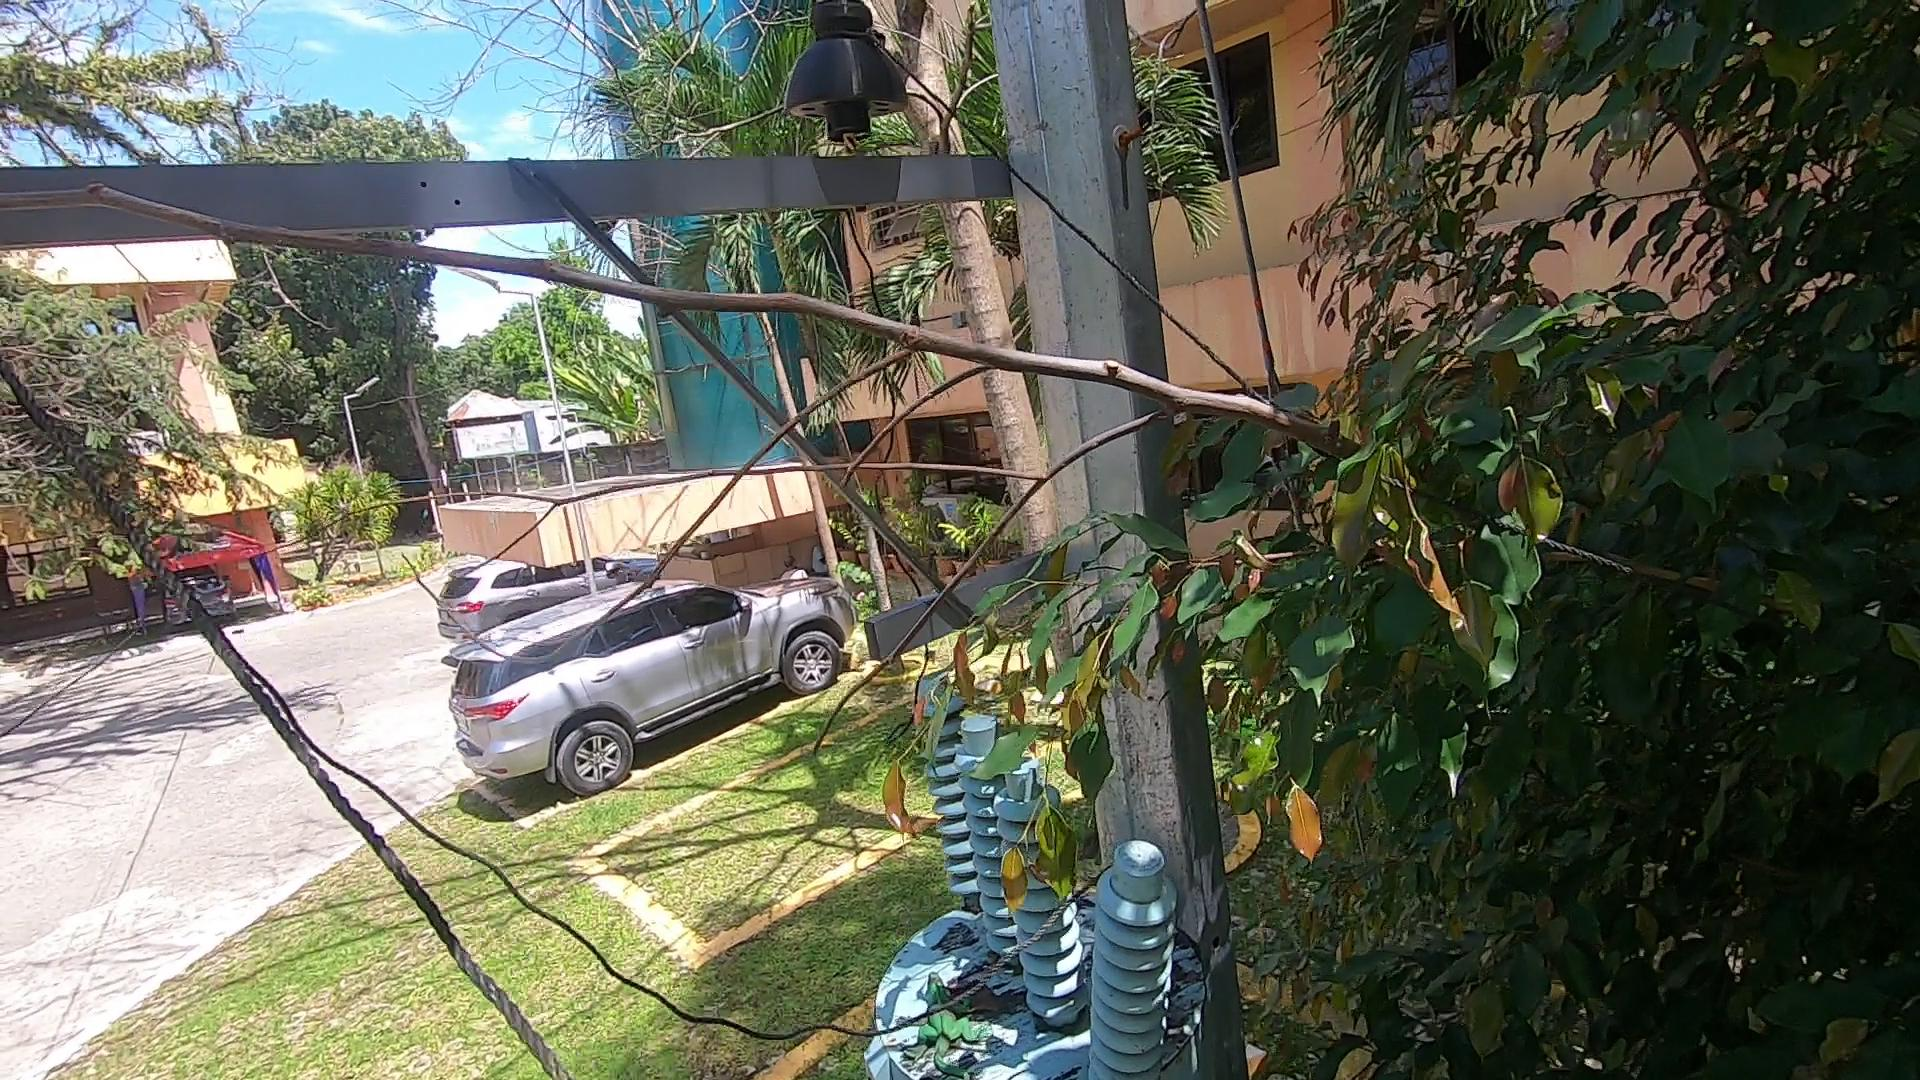leaf: (942, 973, 1000, 1021)
tree branch: (1, 156, 1606, 773)
